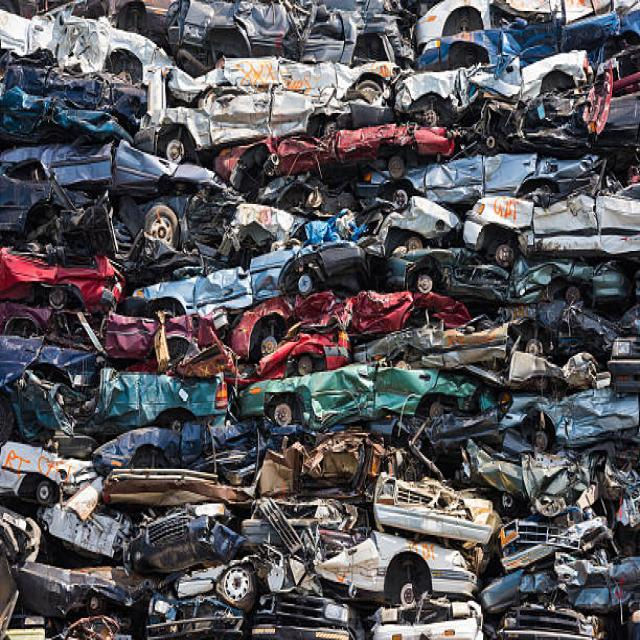metal: (36, 373, 606, 631), (271, 39, 554, 292), (15, 23, 242, 272)
